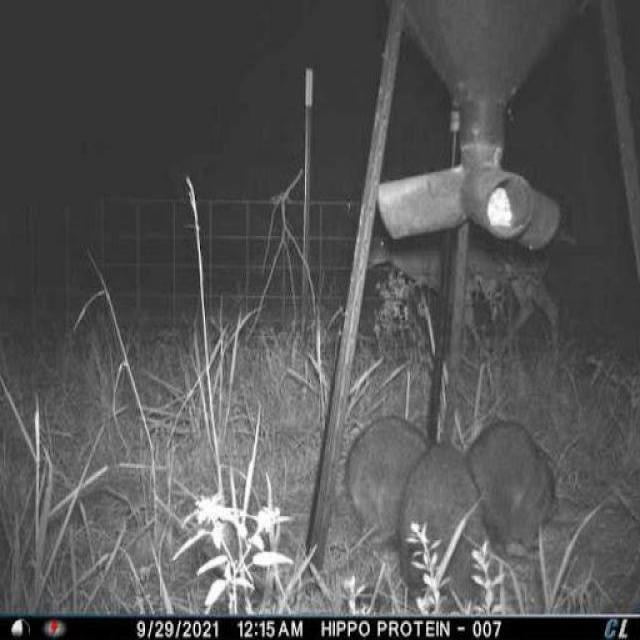deer: (362, 211, 568, 370)
